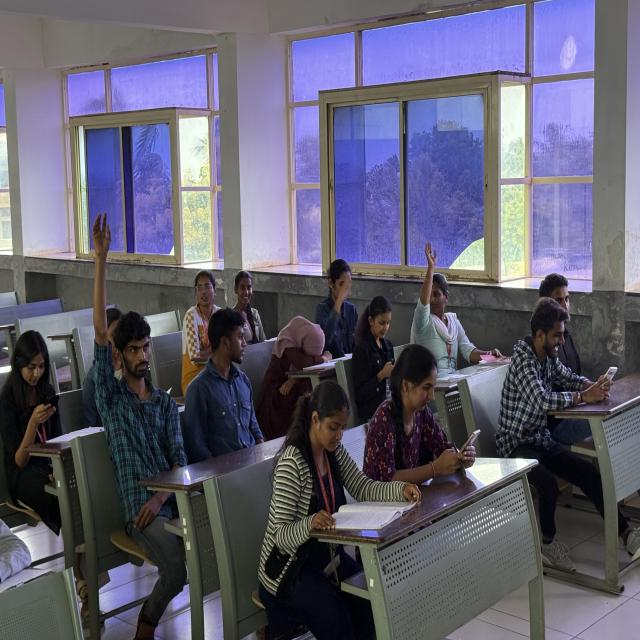Hand Rising: (82, 207, 190, 466), (406, 230, 477, 376)
Reading: (258, 374, 413, 548), (346, 290, 407, 389)
Sleeping: (257, 313, 335, 403)
Using Phone: (499, 292, 623, 445), (359, 340, 492, 473), (0, 321, 83, 508)
